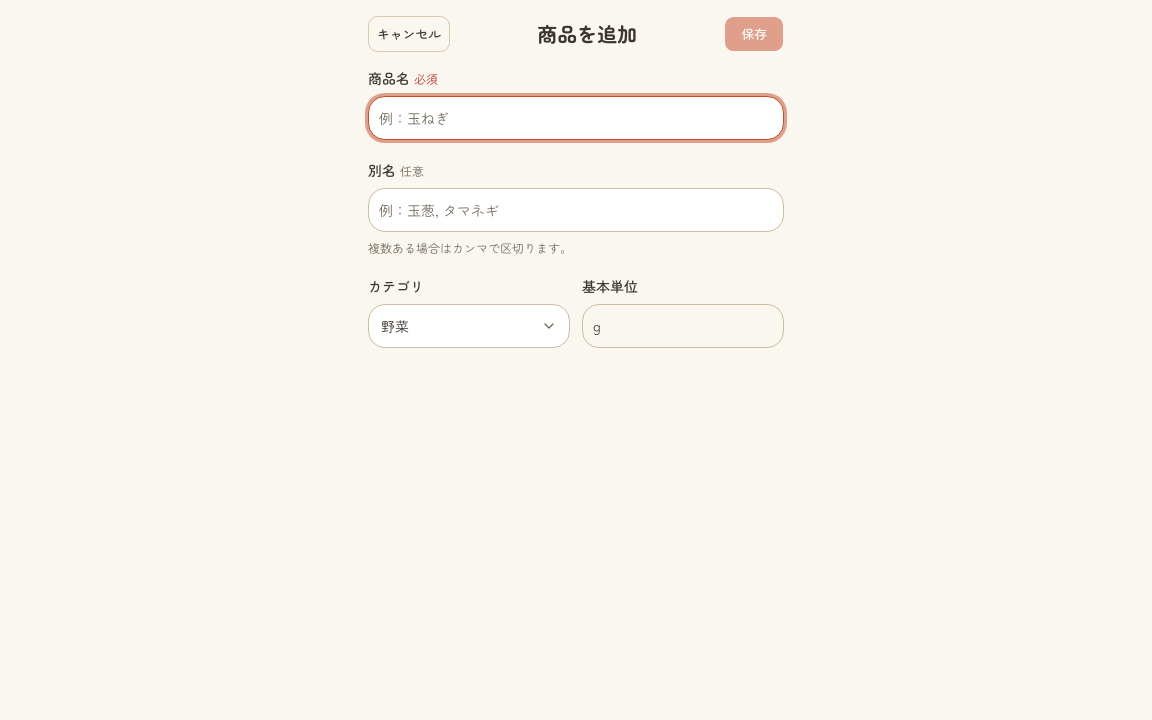
Scenario: ProductFormClient › PFC-06: 保存失敗後もガードが残り、キャンセルで確認ダイアログが出る
This screenshot has width=1152, height=720.
In the field labelled "商品名 必須": (576, 118) top-left (368, 96), bottom-right (784, 140), type "玉ねぎ"
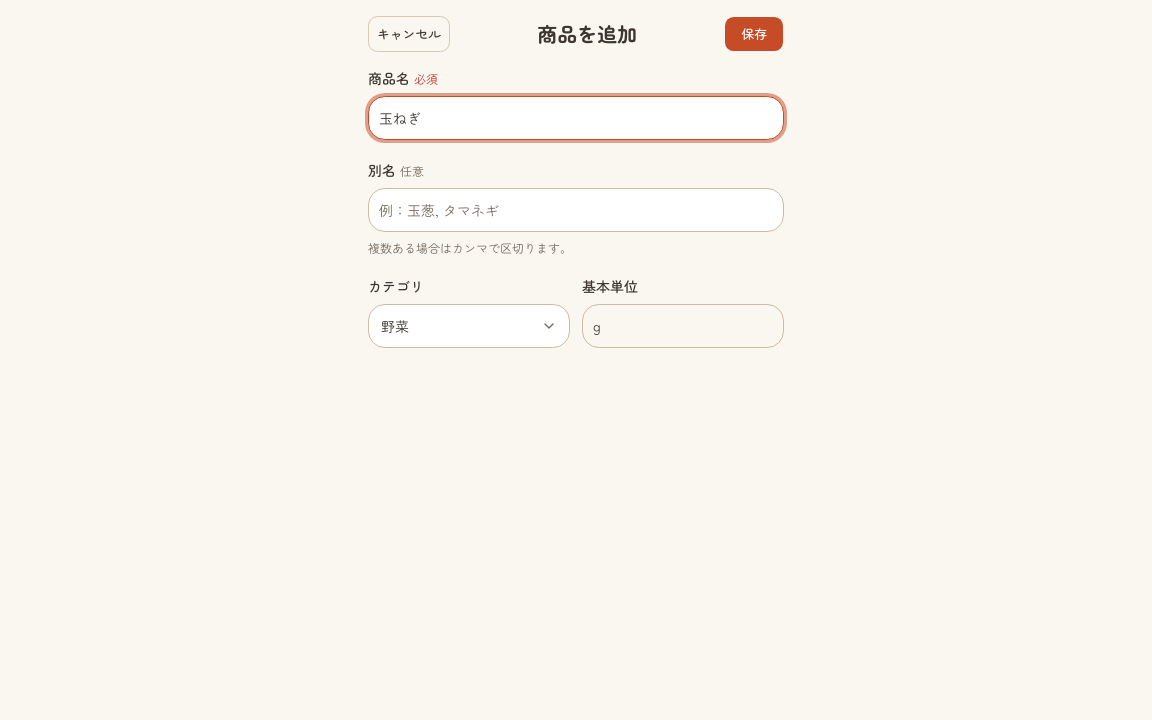
Click the button "保存": (754, 34) top-left (724, 16), bottom-right (784, 52)
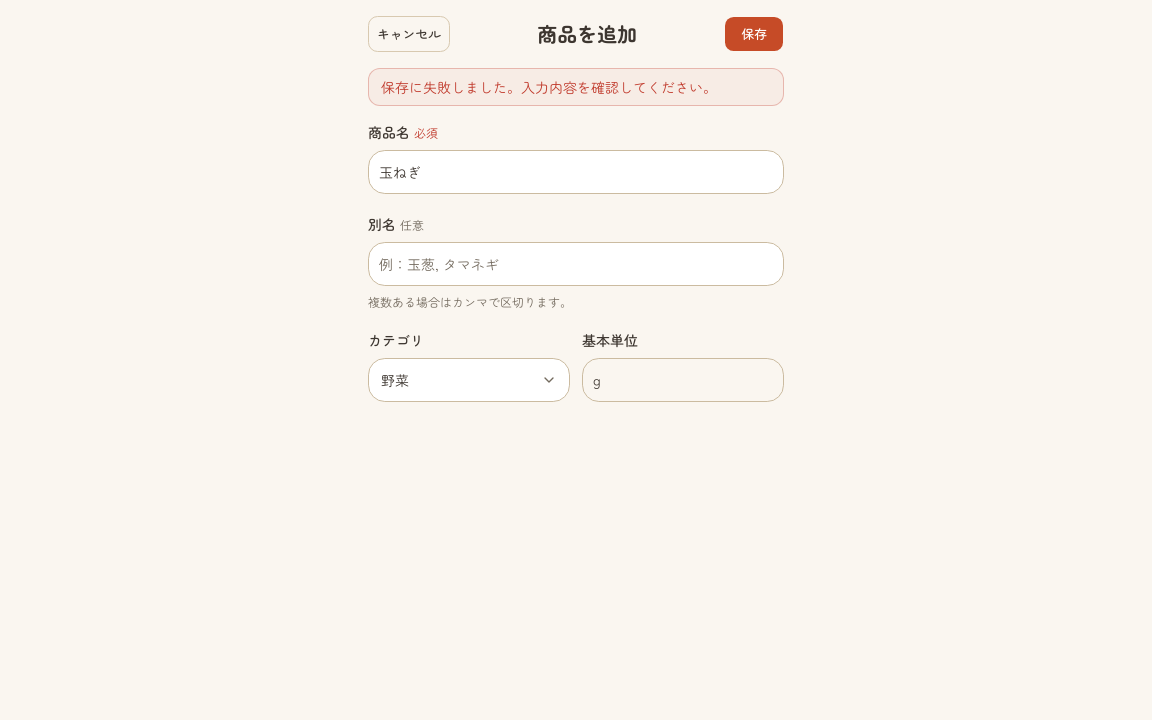
Expected: the text "保存に失敗しました。入力内容を確認してください。" is shown, top-left (368, 68), bottom-right (784, 106)
Click the button "キャンセル": (409, 34) top-left (368, 16), bottom-right (450, 52)
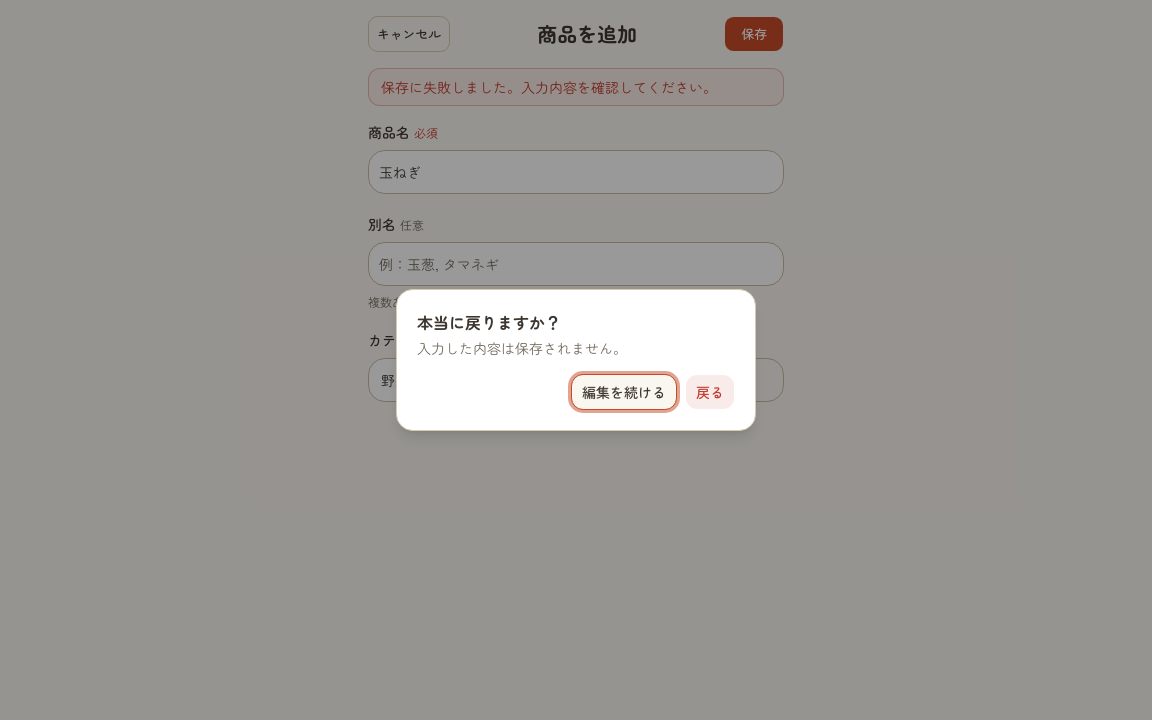
Expected: the heading "本当に戻りますか？" is shown, top-left (417, 310), bottom-right (561, 334)
